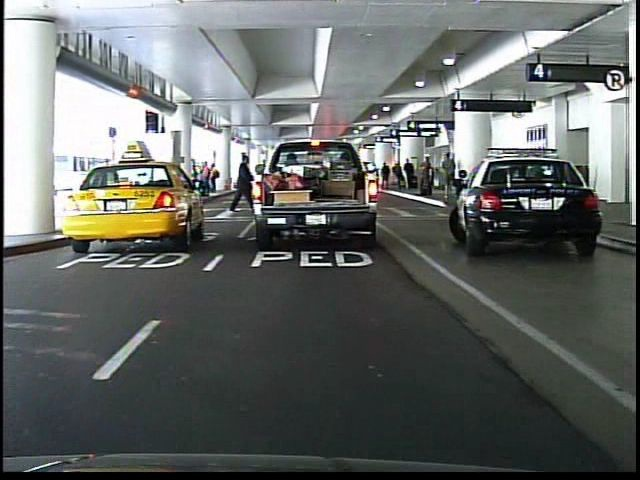person: (226, 153, 252, 213), (291, 145, 315, 204)
